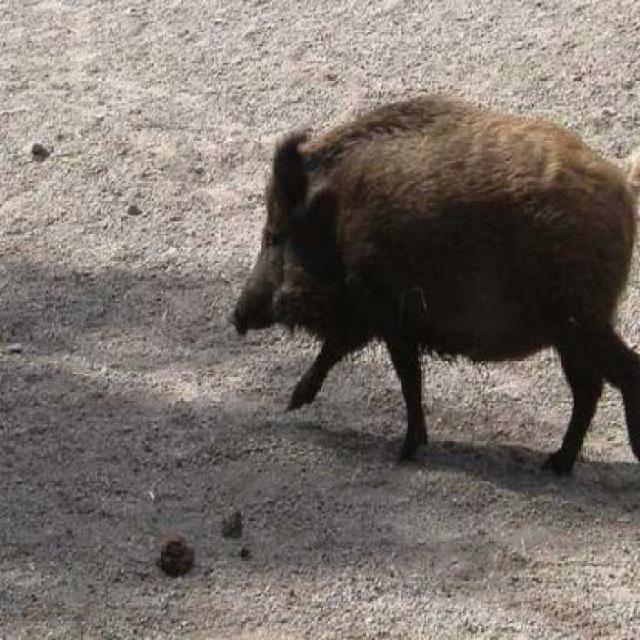Boar: (251, 72, 638, 491)
